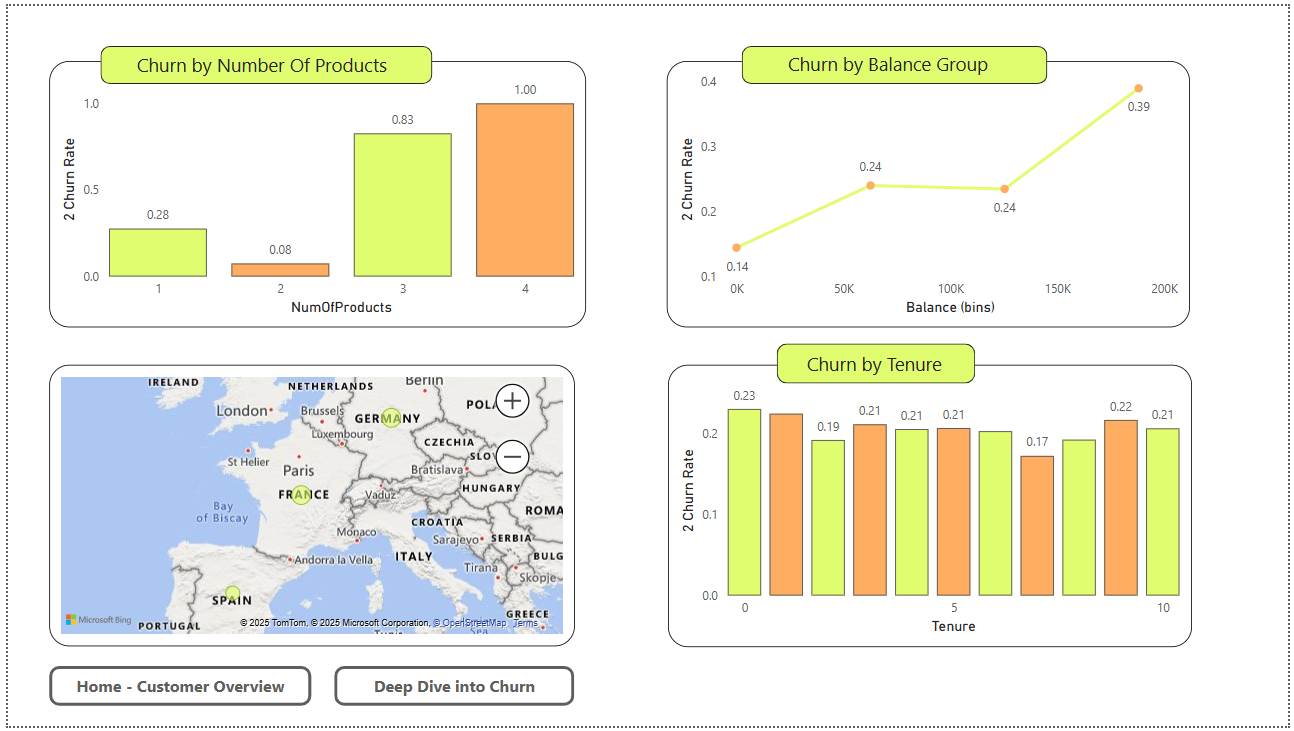

Layout of this report page (visuals, bound fields, positions):
{"tool":"powerbi","page":{"name":"Page 2","canvas":[1280,720],"ordinal":1},"visuals":[{"type":"columnChart","title":"Churn Rate by Number of Products","fields":{"Category":["Churn_Modelling.NumOfProducts"],"Y":["Churn_Modelling.2 Churn Rate"]},"box":[41.4,55.5,537.1,266.5],"z":0,"group":"g3"},{"type":"lineChart","fields":{"Category":["Churn_Modelling.Balance (bins)"],"Y":["Churn_Modelling.2 Churn Rate"]},"box":[658.6,55.5,523.6,266.5],"z":0,"group":"g2"},{"type":"shape","box":[92.6,40,331.8,38],"z":1000,"group":"g3"},{"type":"shape","box":[733.5,40,305.7,38],"z":1000,"group":"g2"},{"type":"textbox","box":[774.3,40,227.1,50],"z":2000,"group":"g2"},{"type":"map","fields":{"Category":["Churn_Modelling.Geography"],"Size":["Sum(Churn_Modelling.Exited)"]},"box":[41.4,358.6,525.7,281.4],"z":2000},{"type":"clusteredColumnChart","fields":{"Category":["Churn_Modelling.Tenure"],"Y":["Churn_Modelling.2 Churn Rate"]},"box":[660,358.5,524.3,282],"z":2001,"group":"g1"},{"type":"textbox","box":[124.3,41.4,287.1,50],"z":2002,"group":"g3"},{"type":"shape","box":[769.2,337.1,198.6,40],"z":2003,"group":"g1"},{"type":"textbox","box":[794.3,340,155.7,50],"z":2004,"group":"g1"},{"type":"group","id":"g1","title":"Group 1","box":[660,337.1,524.3,302.9],"z":2005},{"type":"group","id":"g2","title":"Group 2","box":[658.6,40,523.6,282],"z":2006},{"type":"group","id":"g3","title":"Group 3","box":[41.4,40,537.1,282],"z":2007}]}

Visuals, with their boxes in screenshot pixels (x1, y1, x2, y2), scaled from the page's 1280x720 canvas onto the 1294x731 screenshot:
"Churn Rate by Number of Products" columnChart: 42/56/585/327
lineChart - Churn_Modelling.Balance (bins) x Churn_Modelling.2 Churn Rate: 666/56/1195/327
shape: 94/41/429/79
shape: 742/41/1051/79
textbox: 783/41/1012/91
map - Churn_Modelling.Geography x Sum(Churn_Modelling.Exited): 42/364/573/650
clusteredColumnChart - Churn_Modelling.Tenure x Churn_Modelling.2 Churn Rate: 667/364/1197/650
textbox: 126/42/416/93
shape: 778/342/978/383
textbox: 803/345/960/396
"Group 1" group: 667/342/1197/650
"Group 2" group: 666/41/1195/327
"Group 3" group: 42/41/585/327
